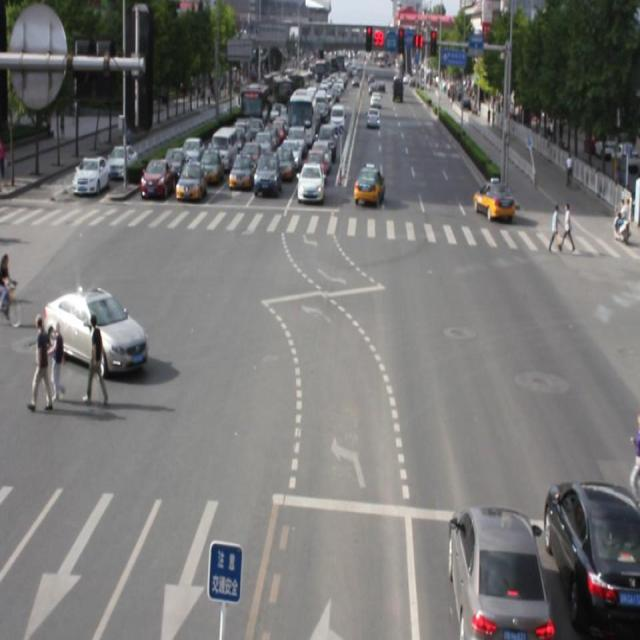car: (542, 487, 640, 640), (446, 513, 544, 640), (44, 287, 147, 374)
